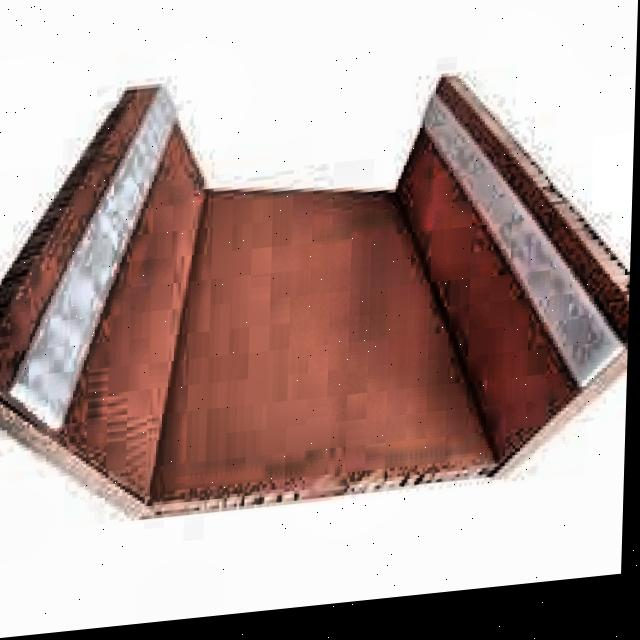cardboard: (0, 29, 637, 542)
